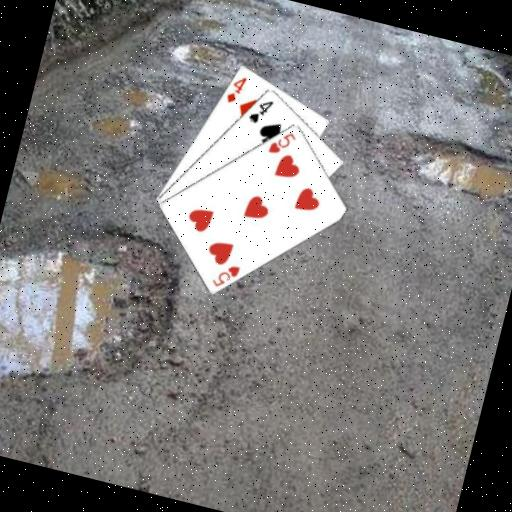4D: (222, 70, 250, 107)
4S: (244, 93, 276, 128)
5H: (208, 258, 243, 293), (265, 125, 299, 160)
